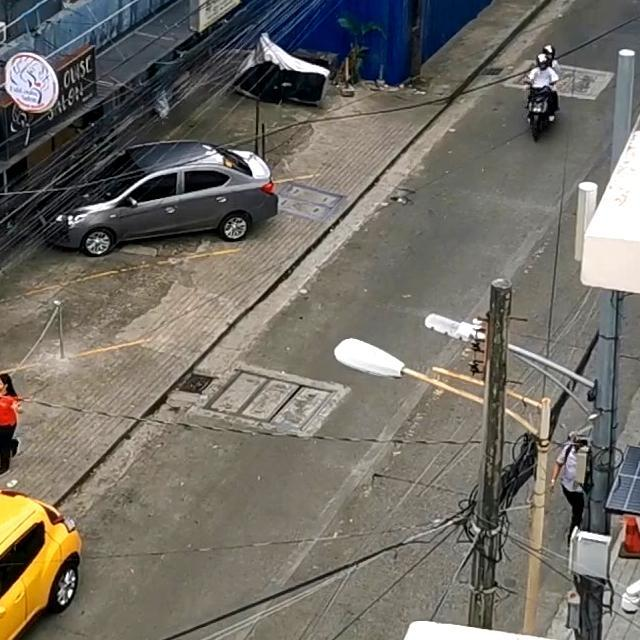Motorcycle: (512, 43, 582, 143)
